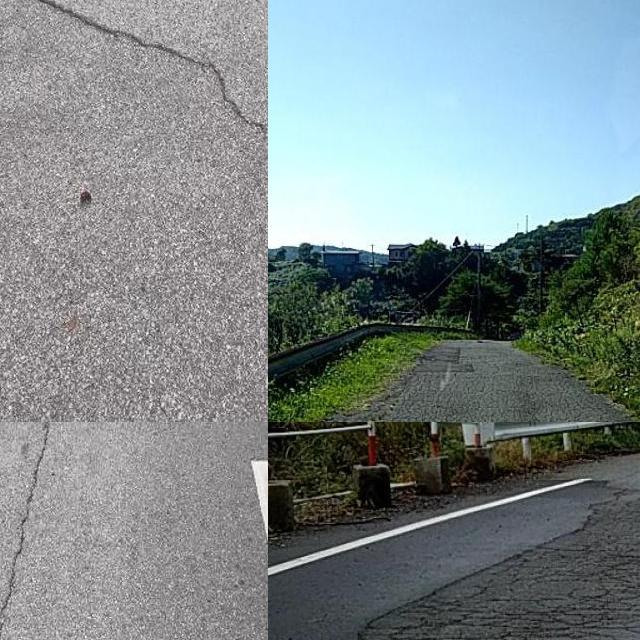Memanjang: (0, 0, 268, 207), (0, 422, 69, 640)
Retak Buaya: (351, 535, 640, 640)
